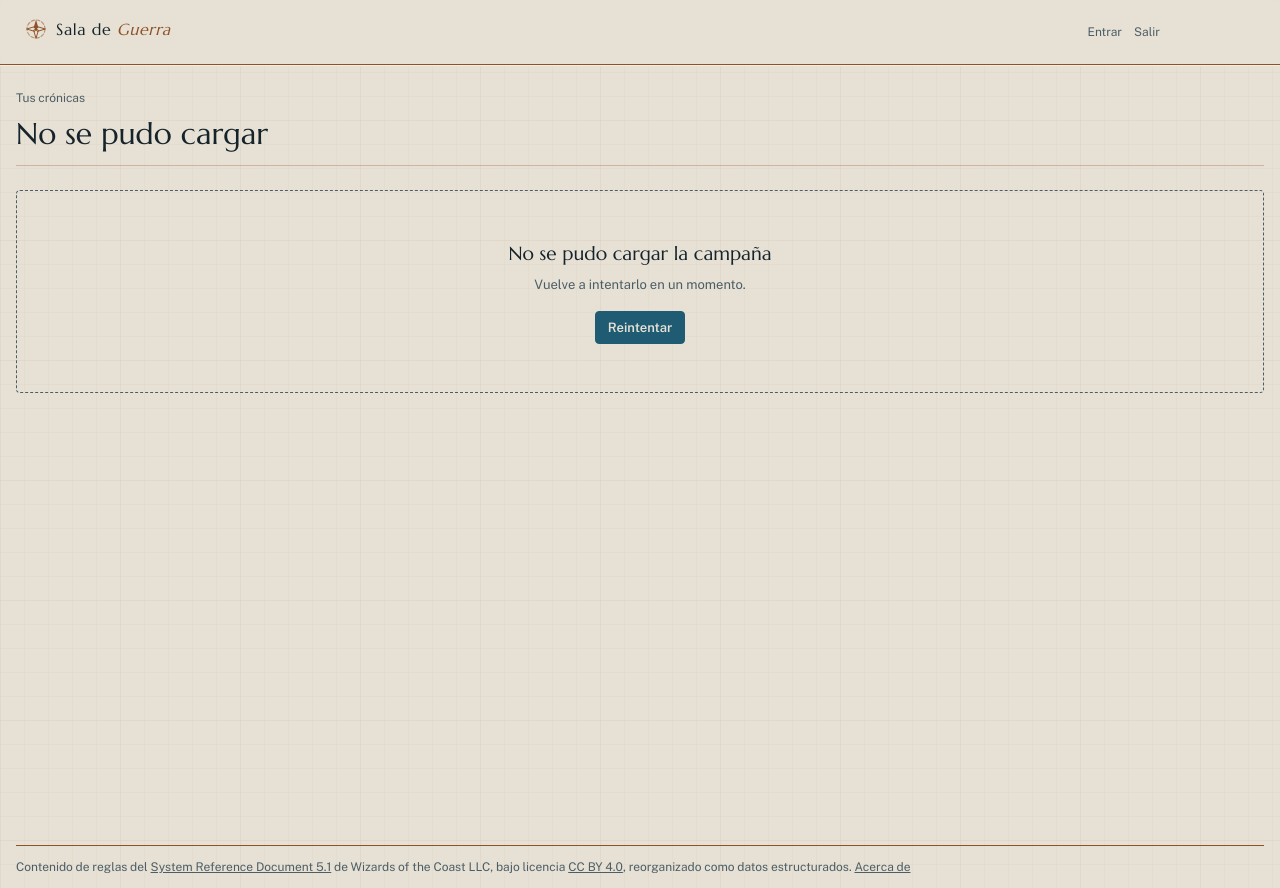
Test: CampaignDetailPage › says it could not load and offers a retry when useCampaign fails with a 500
Check: the text "No se pudo cargar la campaña" is shown, box [508,240,772,264]
Check: the text "Vuelve a intentarlo en un momento." is shown, box [534,277,746,292]
Click the button "Reintentar" at (640, 327), box [595,310,685,344]
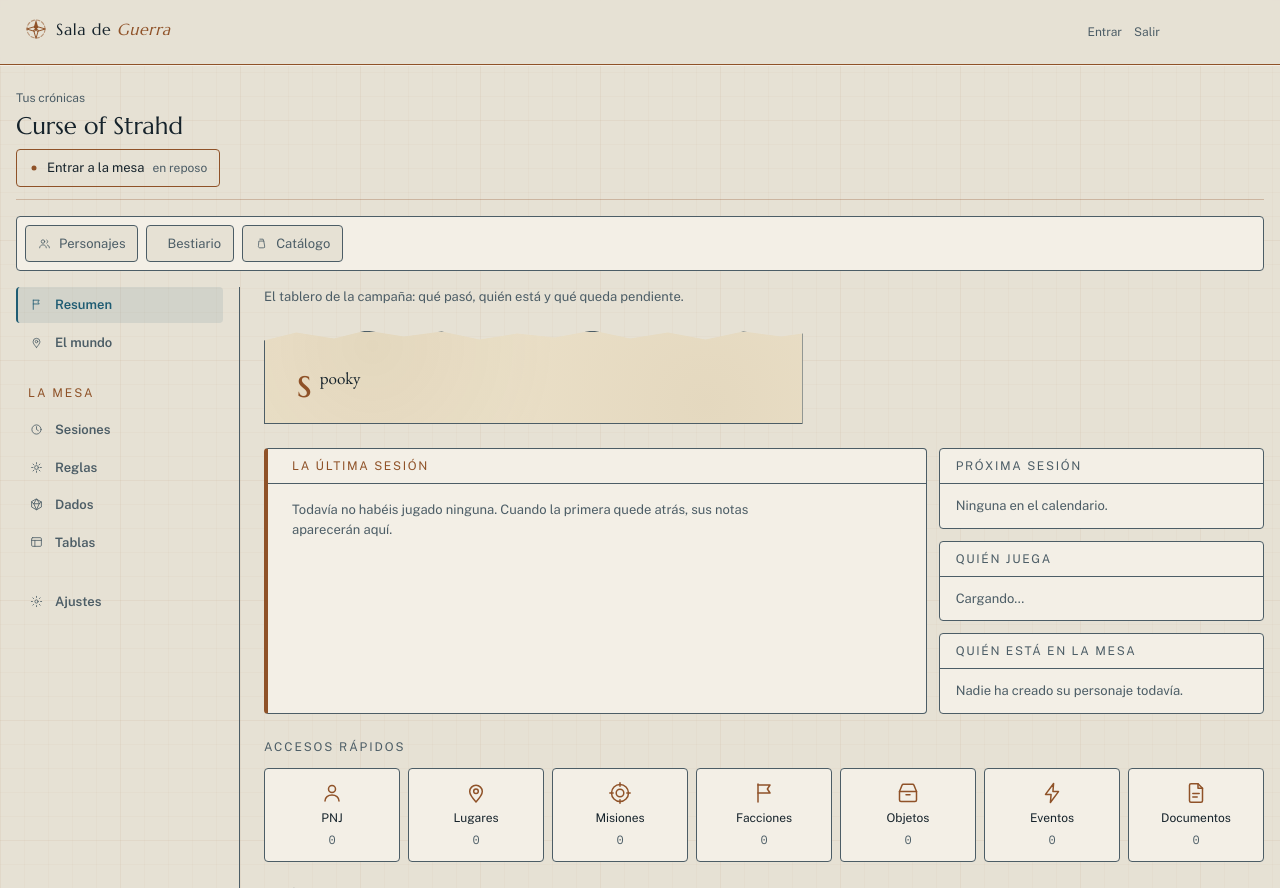
Check: the heading "Curse of Strahd" is shown, box [16,111,183,141]
